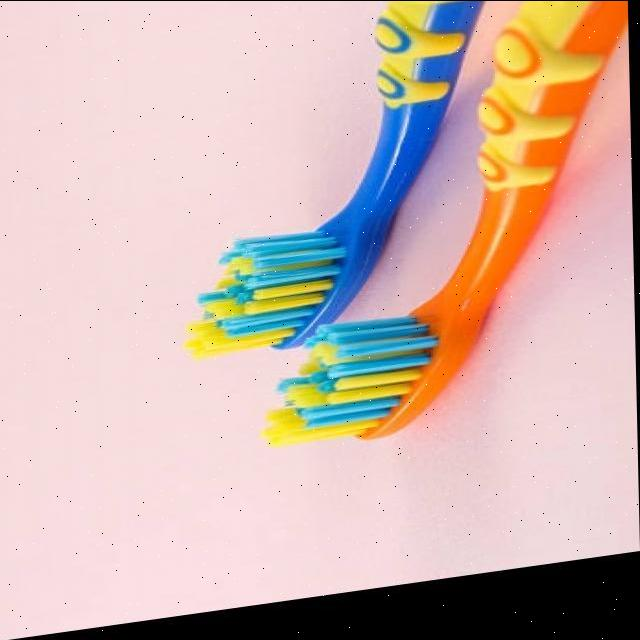toothbrush: (263, 0, 627, 450), (200, 0, 492, 353)
